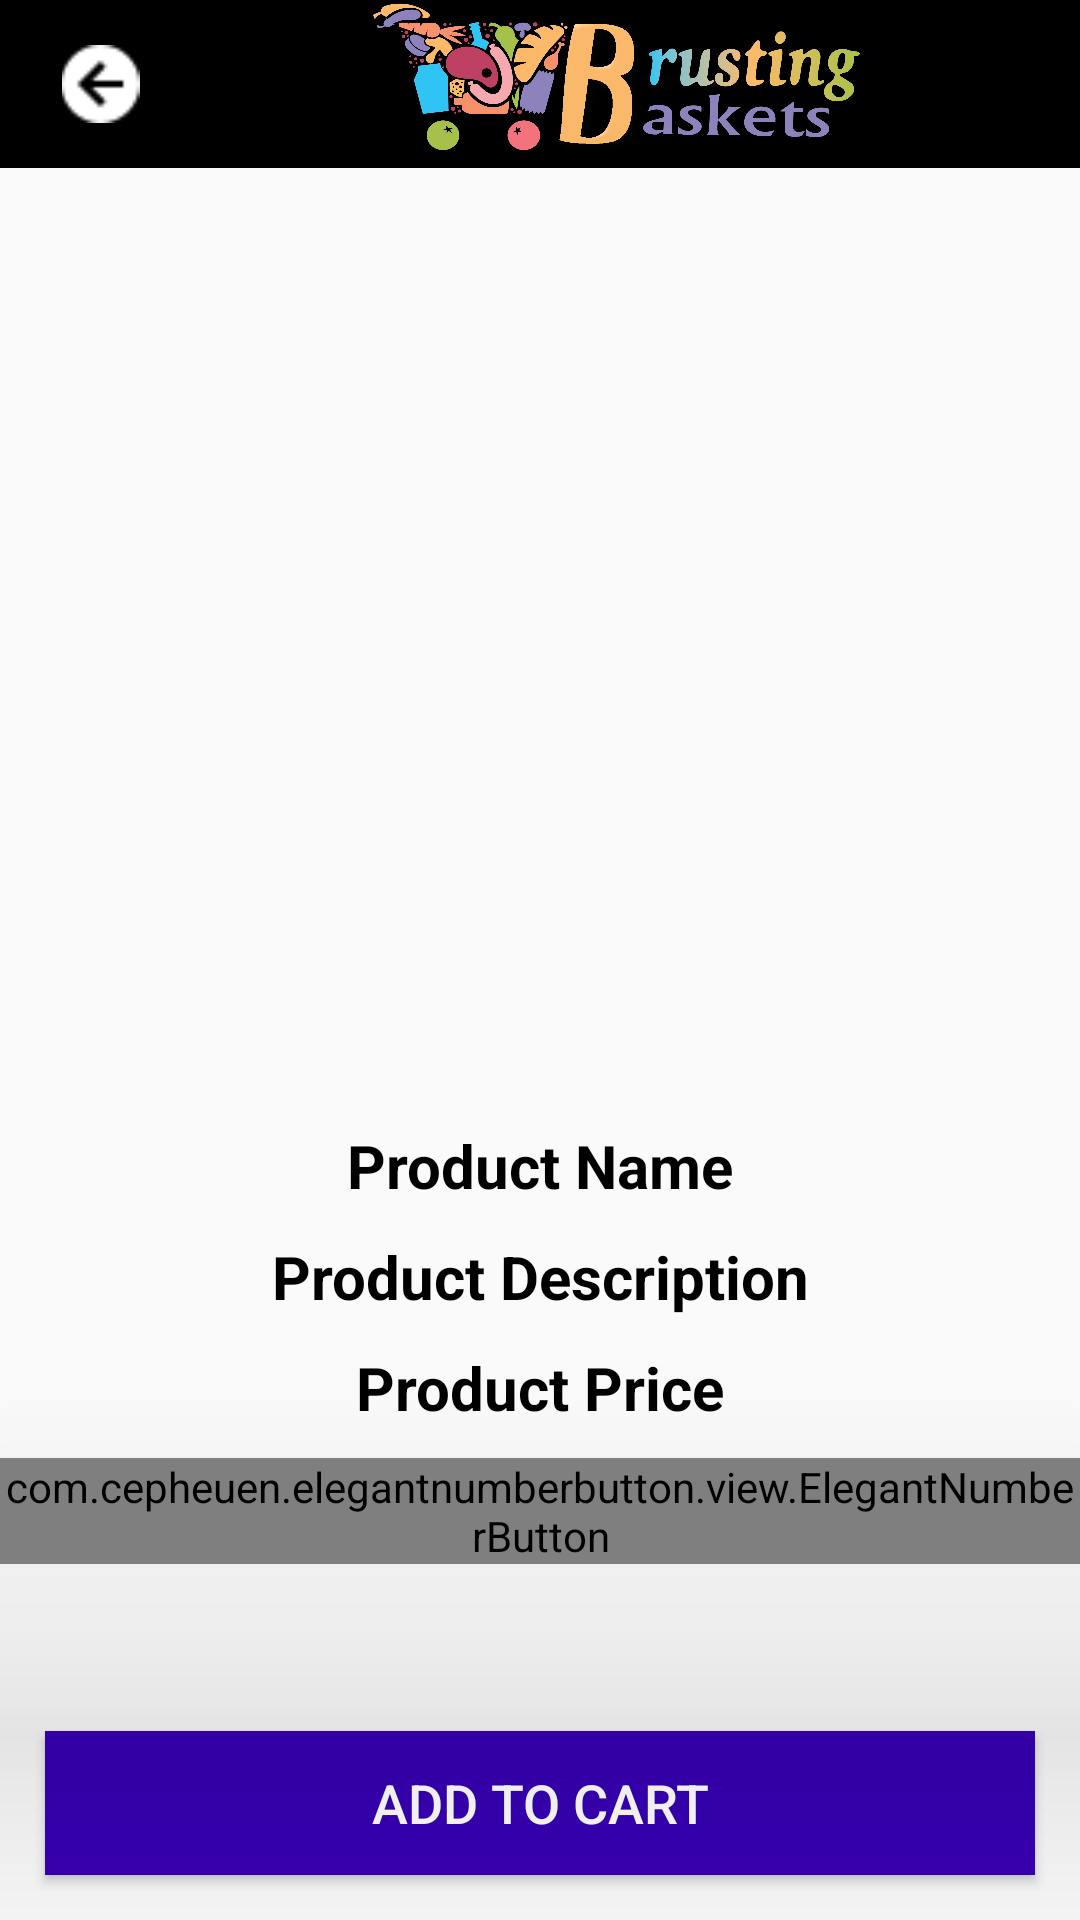

Icons on this 1080px x 1920px Android screen, each with the point to tap as point (x, y):
back arrow: point (101, 84)
